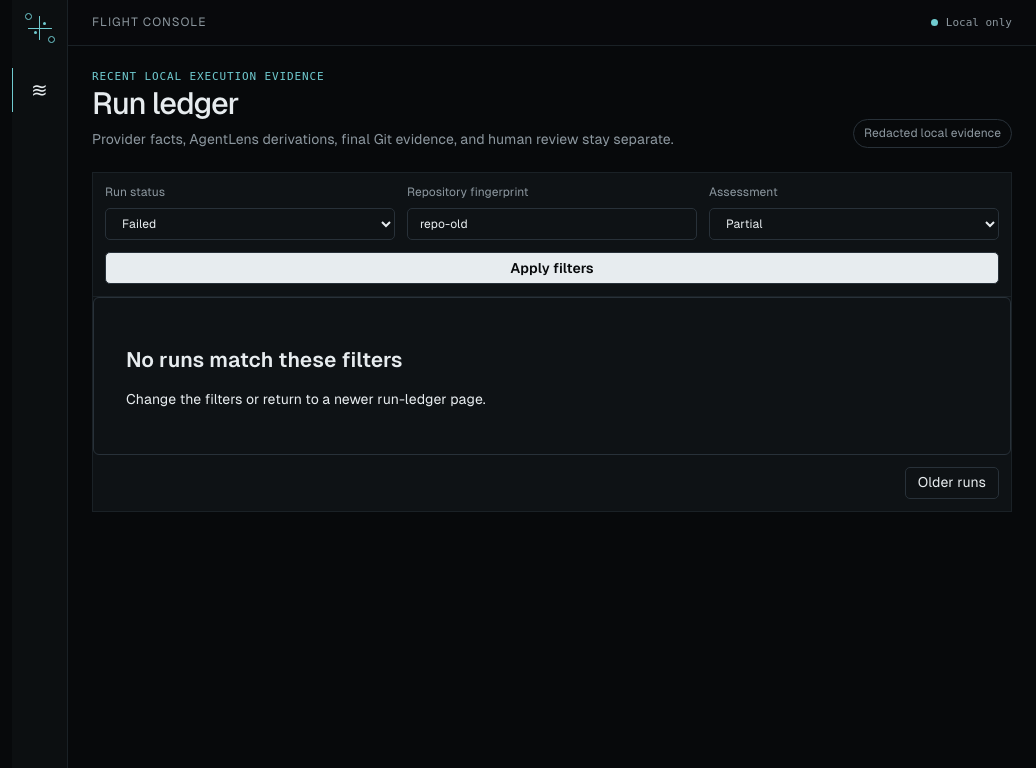
Test: production run ledger › keeps status, repository, assessment, and cursor filters URL-addressable and server-side
Expected: the field labelled "Repository fingerprint" holds "repo-old", [407,208,697,240]
Expected: the dropdown labelled "Assessment" shows "Partial", [709,208,999,240]
Select "Interrupted" in the dropdown labelled "Run status": (250, 224) [105,208,395,240]
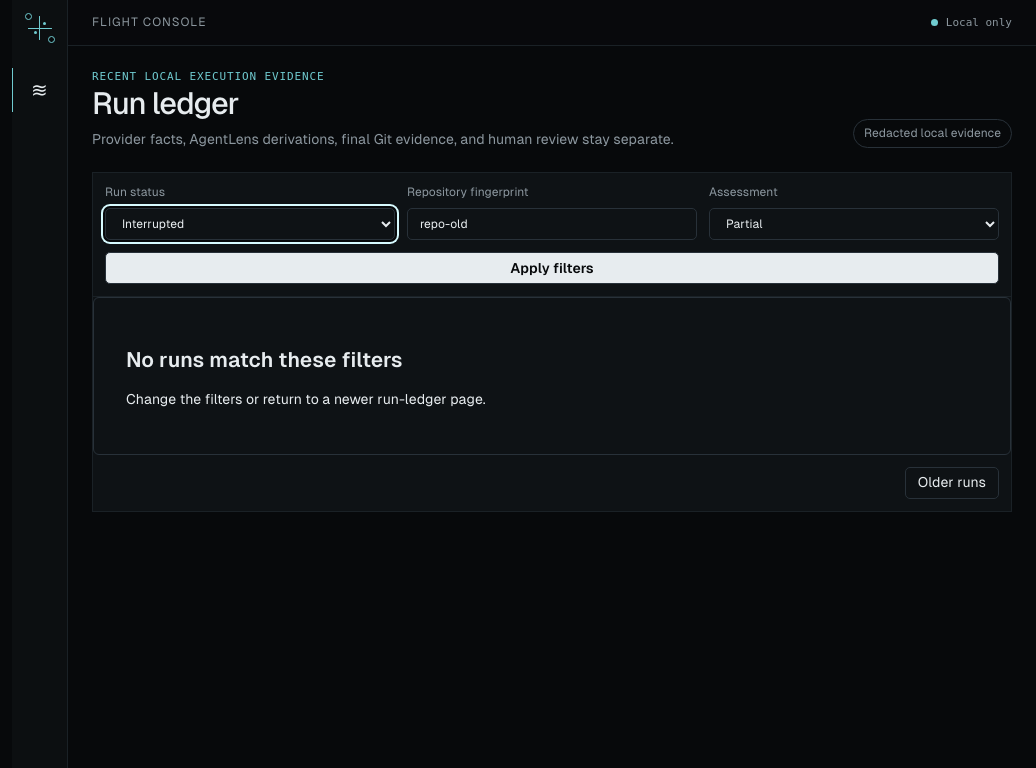
Replace the text in the field labelled "Repository fingerprint" with "repo/new": (552, 224) [407,208,697,240]
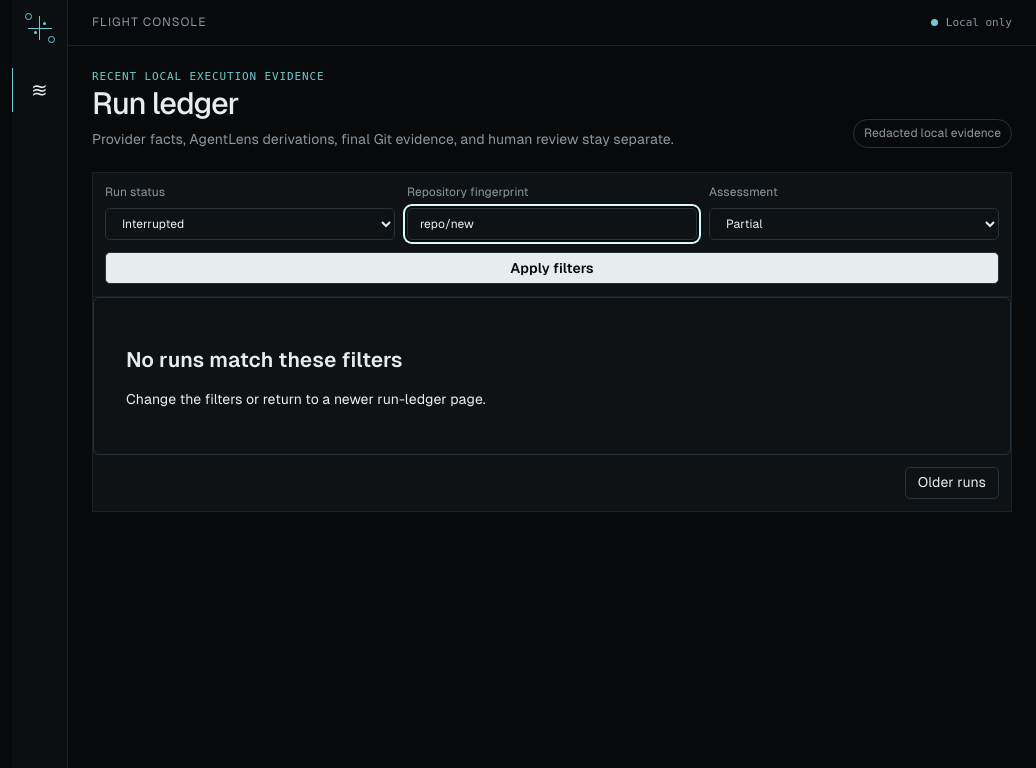
Select "Projected" in the dropdown labelled "Assessment": (854, 224) [709,208,999,240]
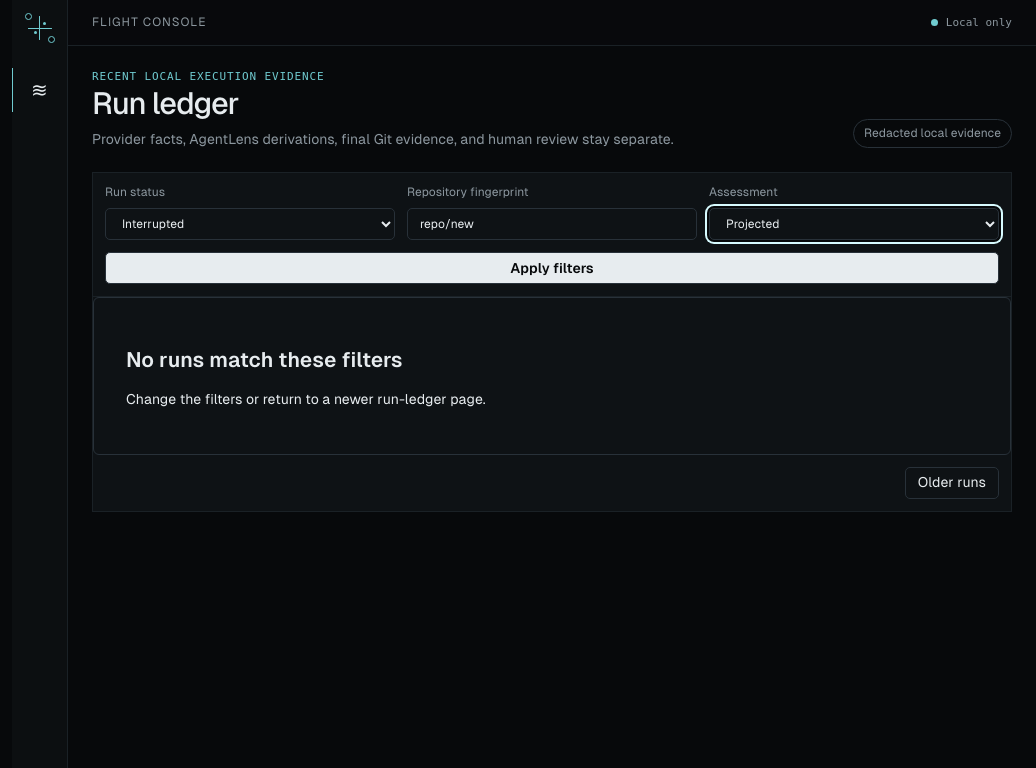
Click the button "Apply filters": (552, 268) [105,252,999,284]
(page scrolled)
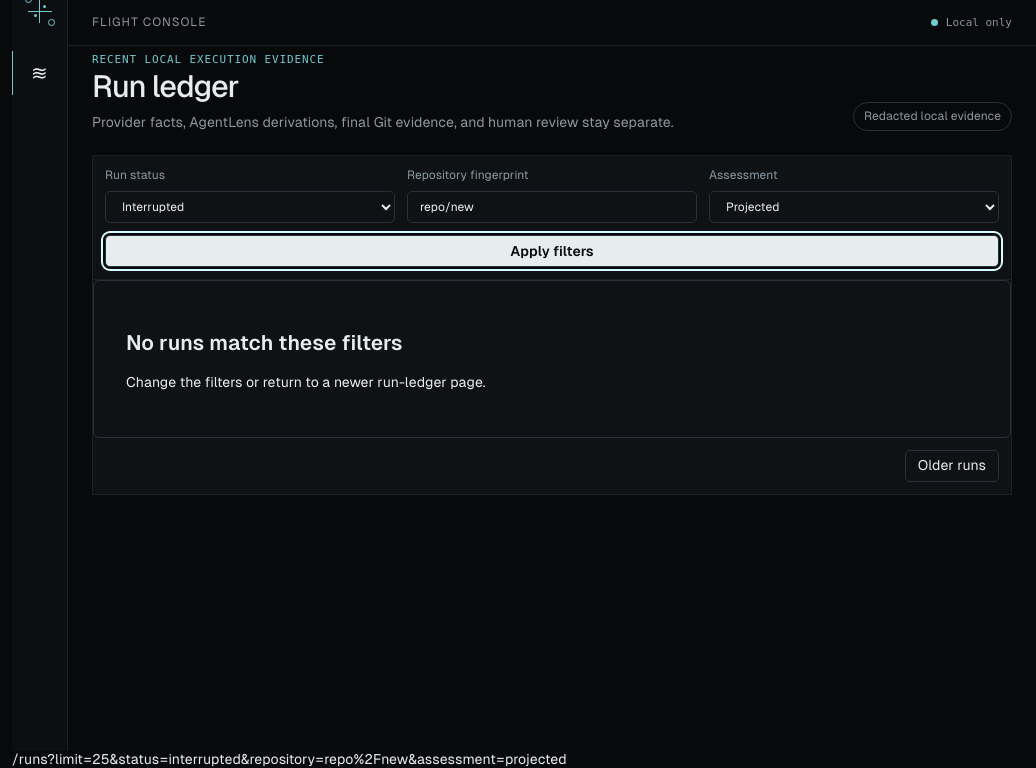
Result: the text with test id "location" reads "/runs?limit=25&status=interrupted&repository=repo%2Fnew&assessment=projected" at [12,751,567,767]
Result: the text with test id "location" no longer shows "cursor=" at [12,751,567,767]
